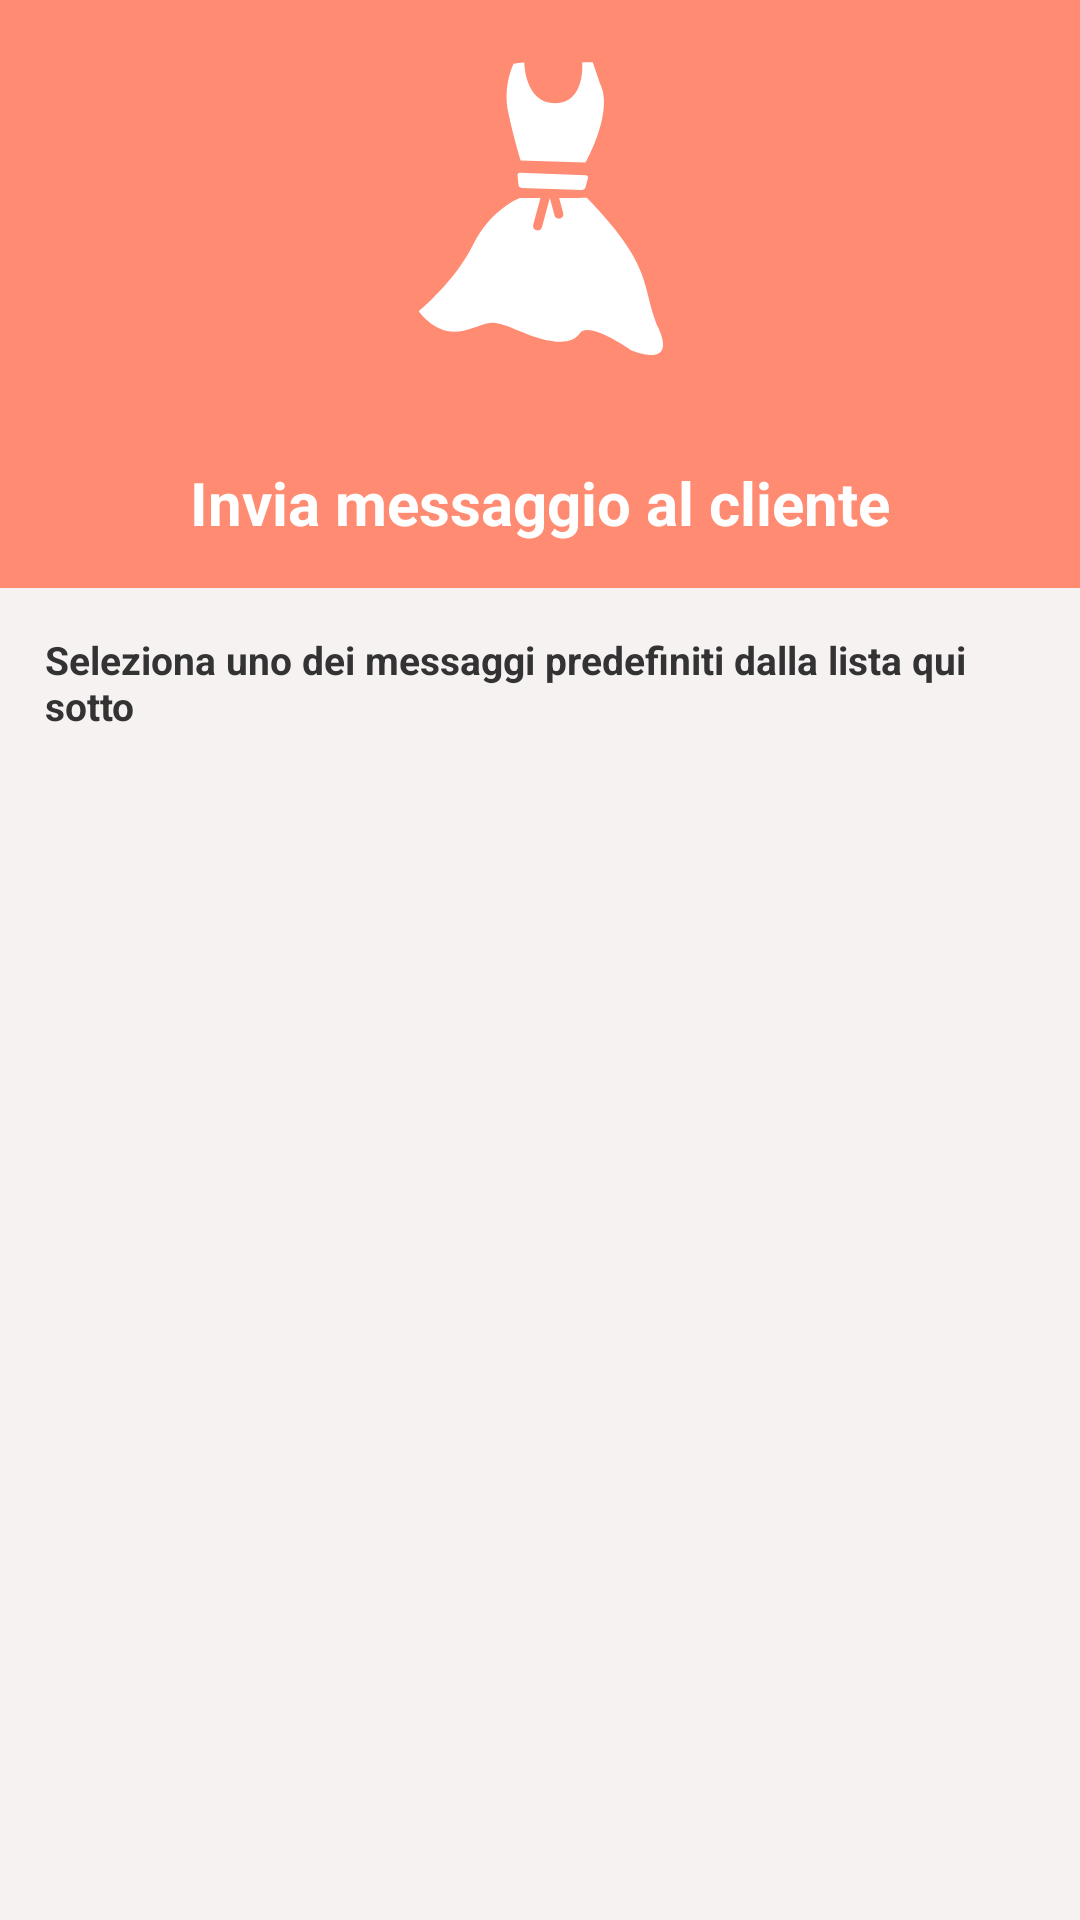

Icons on this 1080 x 1920 Android screen, each with the point to tap as point (x, y):
dresslab dress: point (541, 208)
